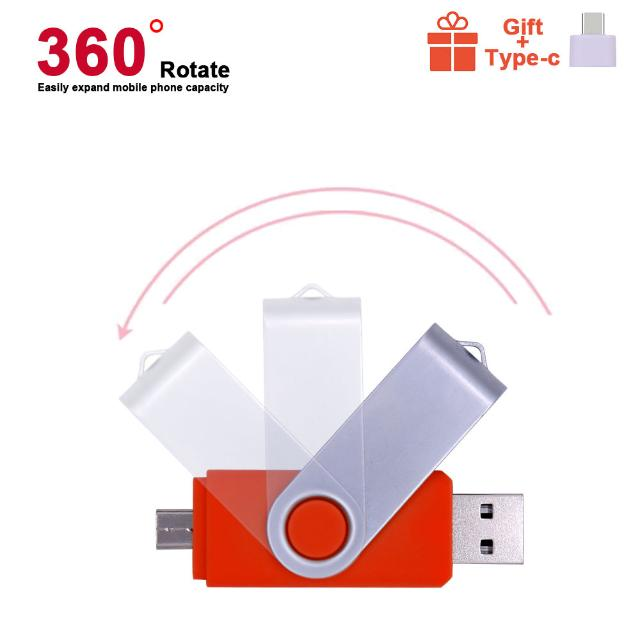USB-Flash-Drive: (192, 470, 525, 589)
